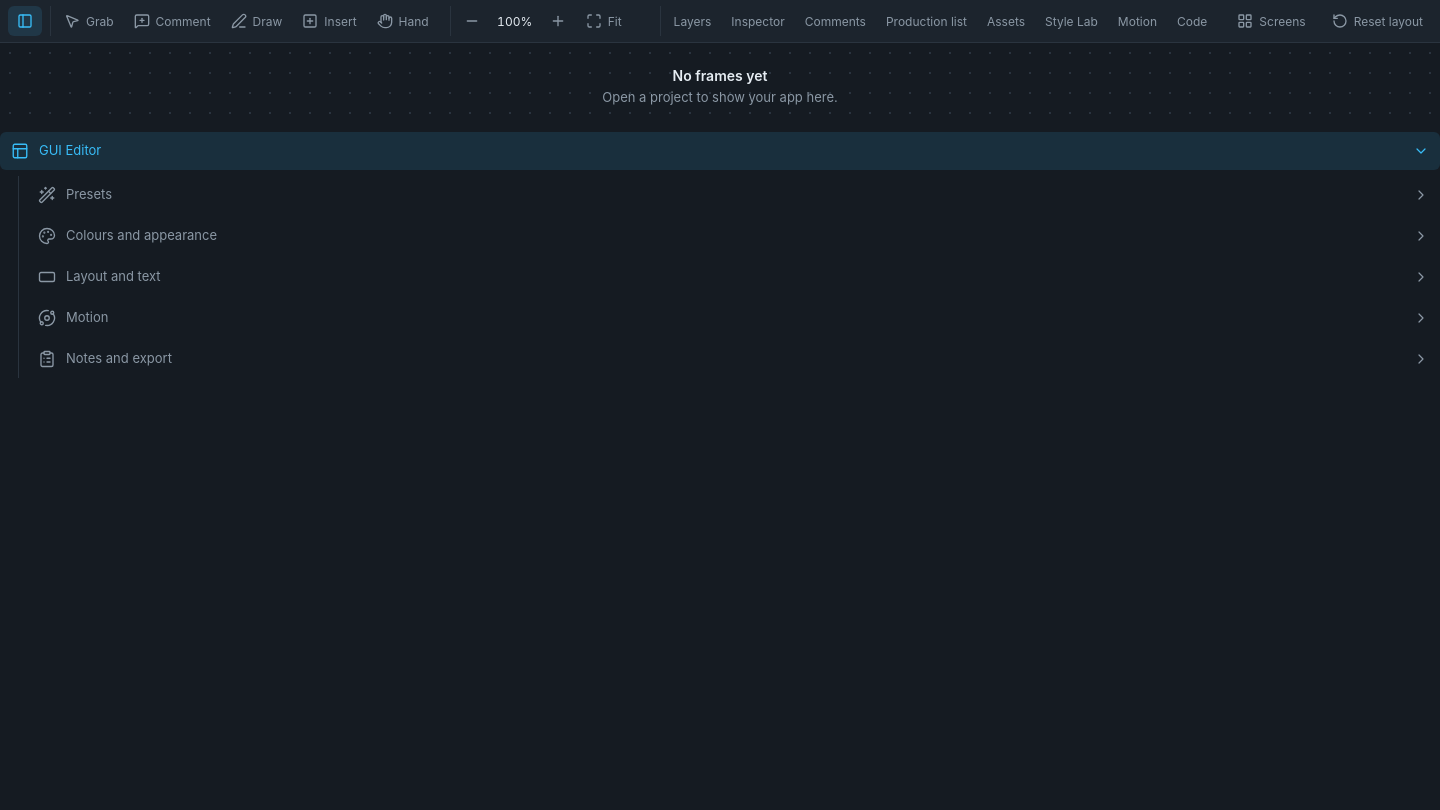
Test: Reset layout restores rails and closes open windows
Later steps or results of the test are not shown.
Click the button with aria-label "Open Layers window". click: {"x": 692, "y": 21}
box: [665,6,720,36]
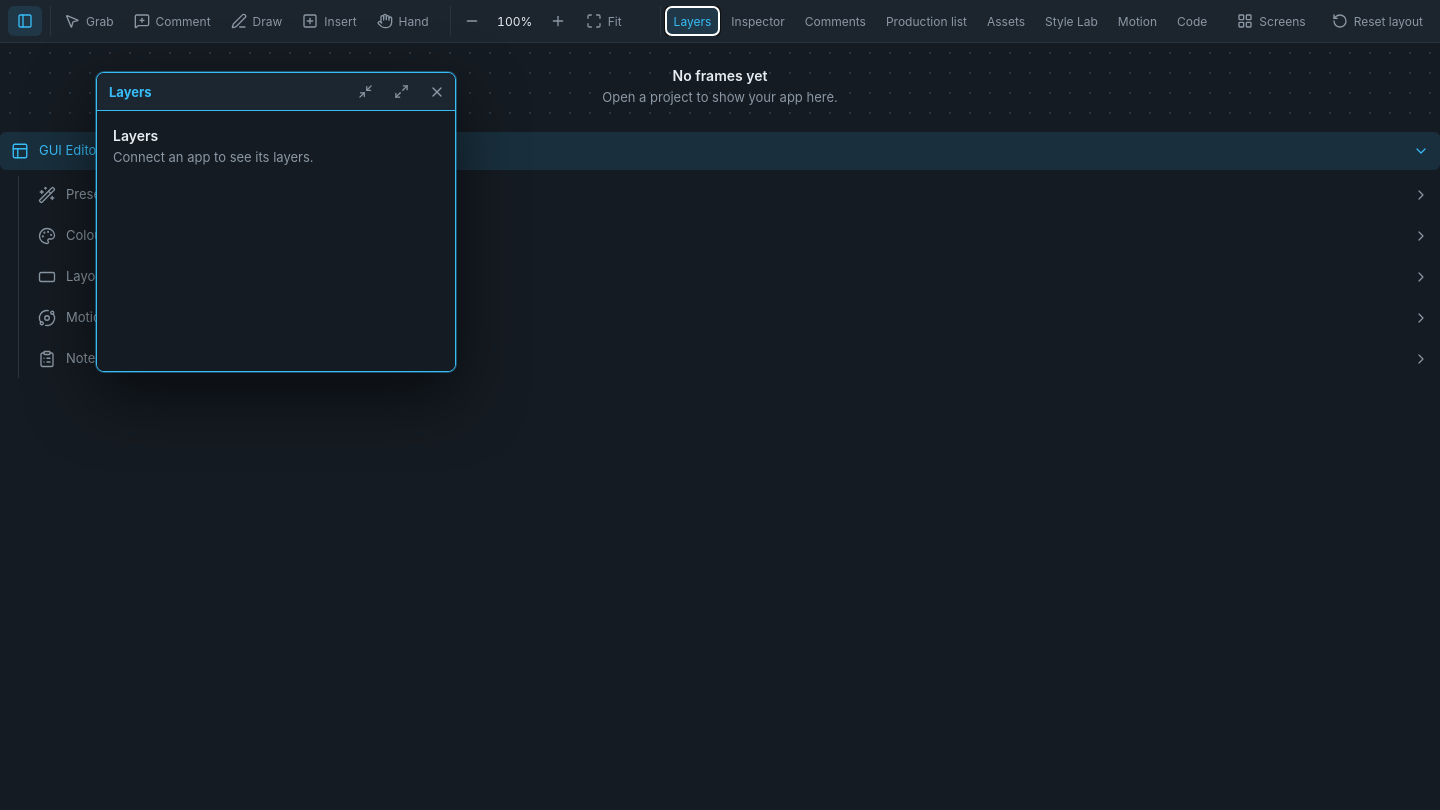
expect the dialog "Layers" is shown: met, box [96,72,456,372]
